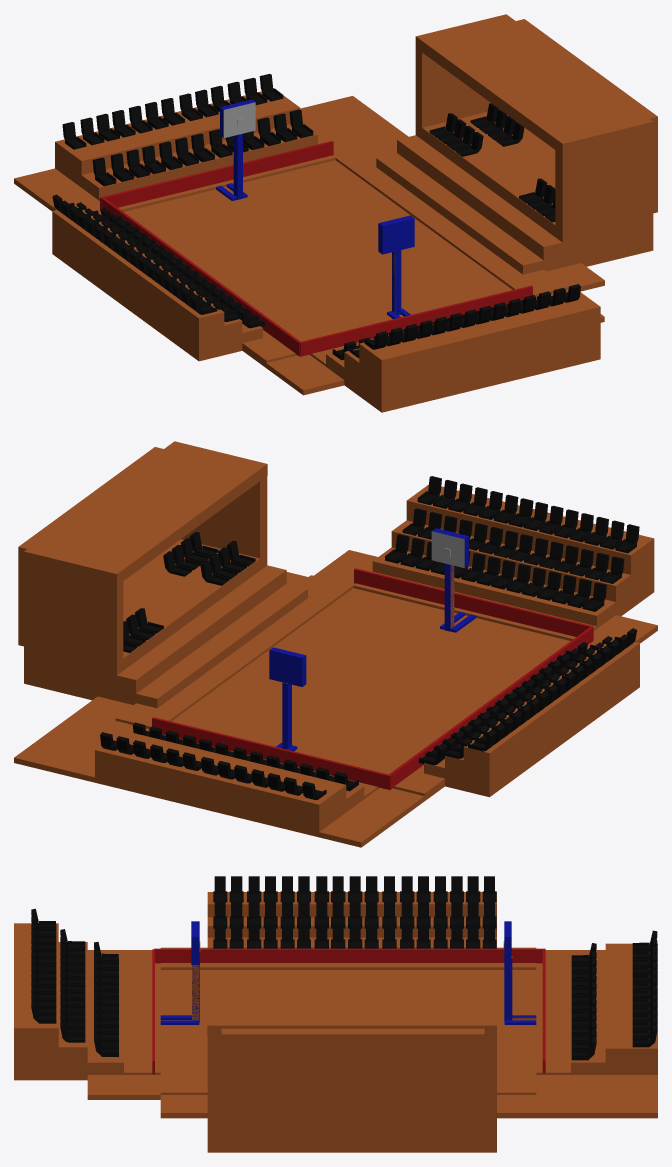
Rendered from court.obj.
The picture shows the model from 3 angles, top to bottom: view 1: azimuth 30°, elevation 25°; view 2: azimuth 150°, elevation 25°; view 3: azimuth 270°, elevation 25°; orthographic projection. The views are drawn at different scales.
Parts seen in each view (by area): view 1: Cube.015, Cube.141_Cube.176, Cube.139_Cube.173, Cube.140_Cube.175; view 2: Cube.015, Cube.139_Cube.173, Cube.141_Cube.176, Cube.140_Cube.175; view 3: Cube.015, Cube.140_Cube.175, Cube.141_Cube.176.
Boxes of the visible parts, x1,y1,x2,y2 form: Cube.015: (14,14,657,412); Cube.141_Cube.176: (100,141,333,211); Cube.139_Cube.173: (299,285,532,356); Cube.140_Cube.175: (101,198,300,356); Cube.015: (14,441,657,847); Cube.139_Cube.173: (354,568,593,639); Cube.141_Cube.176: (152,717,391,789); Cube.140_Cube.175: (389,627,593,788); Cube.015: (14,892,657,1152); Cube.140_Cube.175: (154,948,542,963); Cube.141_Cube.176: (542,948,545,1073).
Size of the model in its own units: 72.36 by 19.1 by 87.72.
